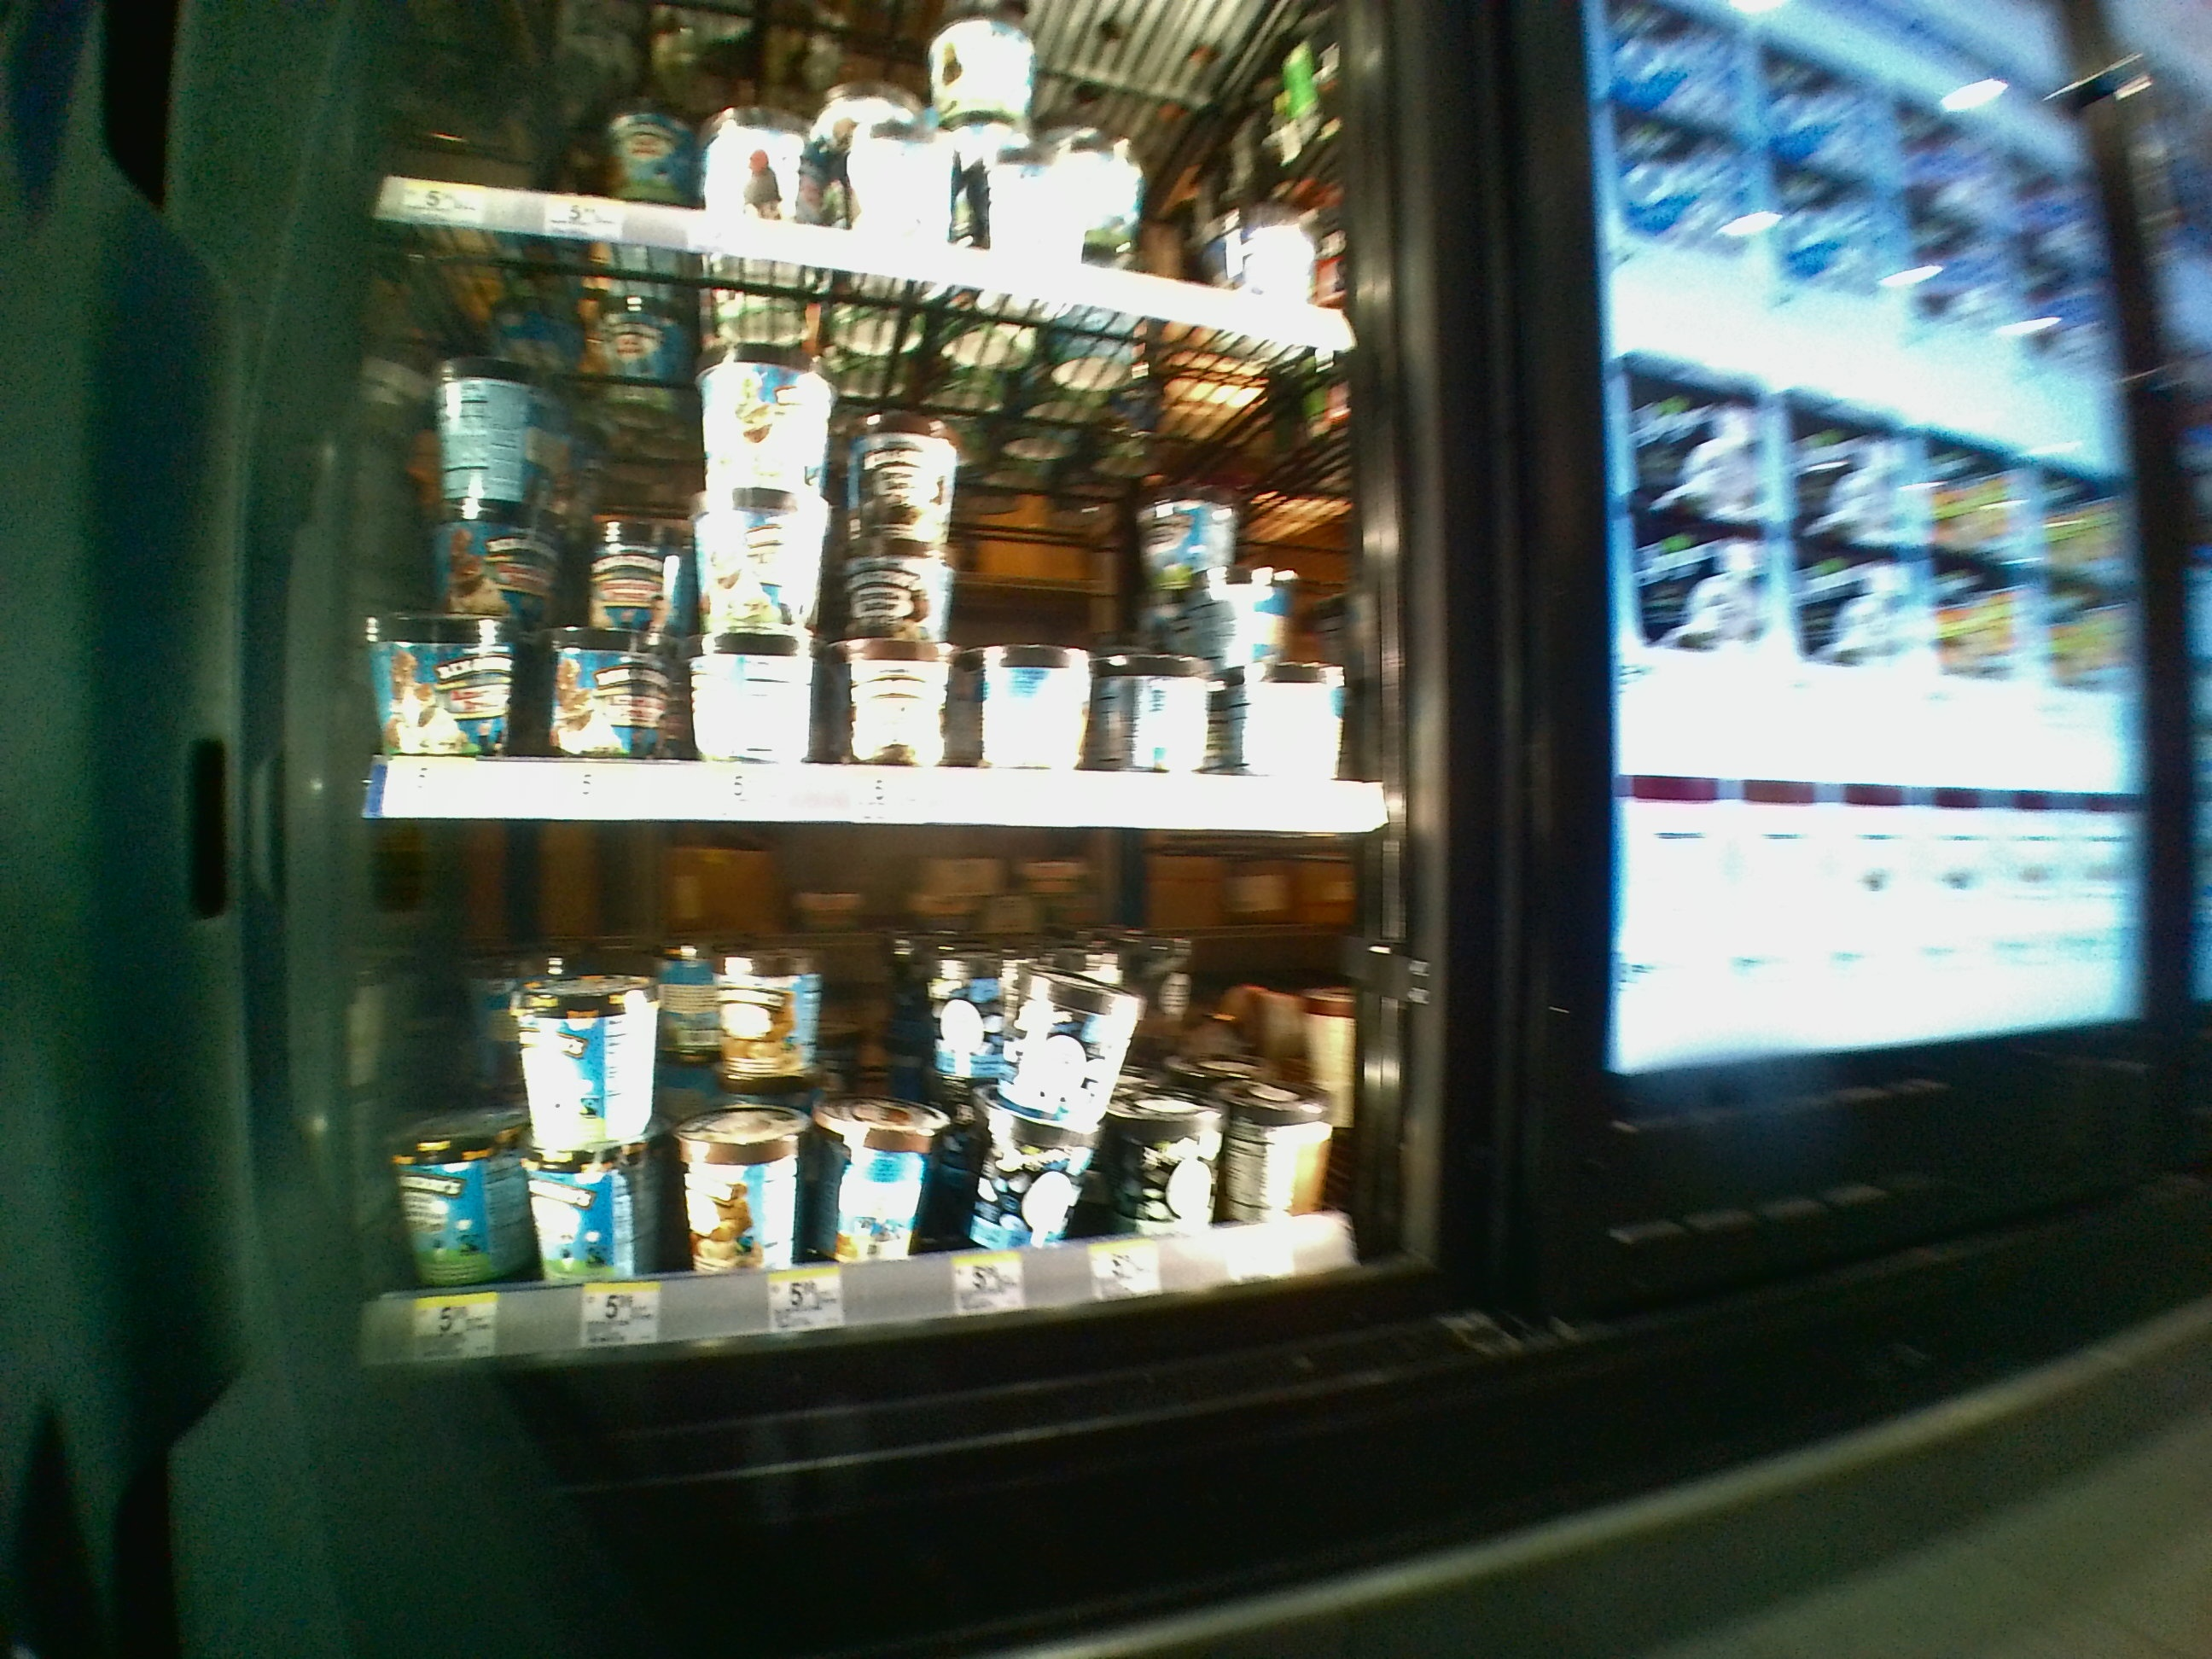shelf: (361, 244, 1378, 828), (364, 849, 1378, 1368)
